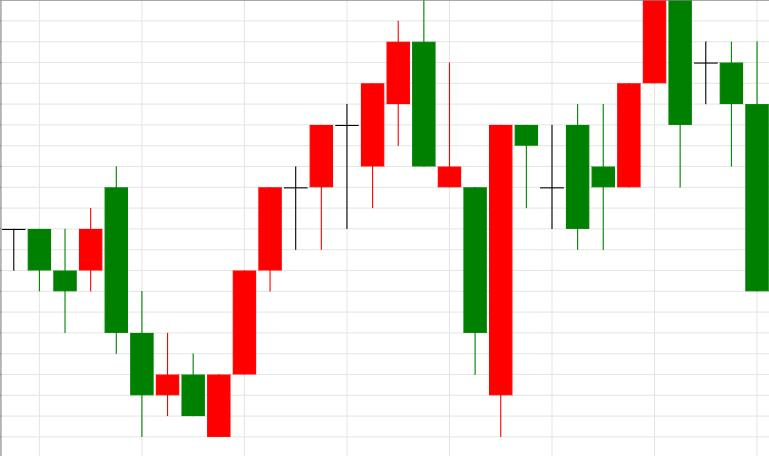bearish_engulfing_fall: (565, 0, 692, 249)
bullish_engulfing_rise: (413, 1, 512, 437)
three_white_soldiers_rise: (104, 166, 283, 437)
